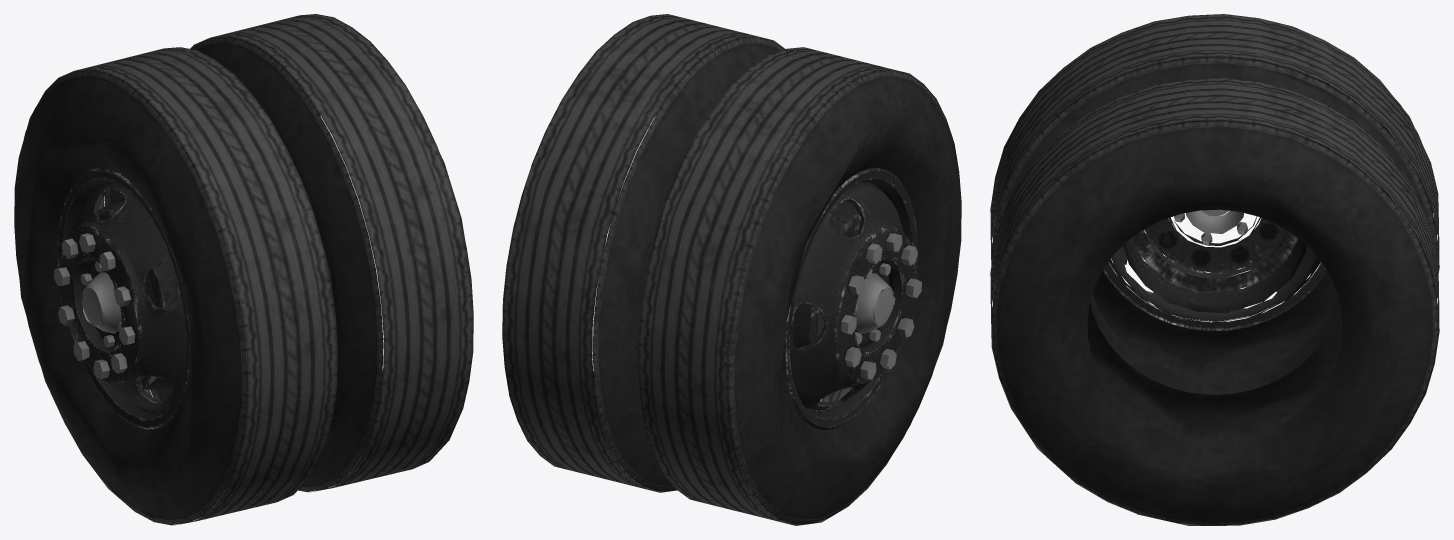
File: tm_wheel_a3_L.glb
3 views of the same model, side by side, from view 1: azimuth 30°, elevation 25°; view 2: azimuth 150°, elevation 25°; view 3: azimuth 270°, elevation 25° (orthographic). The views are drawn at different scales.
Visible parts, largest first — view 1: wheel_(3, 0); view 2: wheel_(3, 0); view 3: wheel_(3, 0).
Boxes of the visible parts, <box> form: wheel_(3, 0): <box>14,14,473,525</box>; wheel_(3, 0): <box>502,14,961,525</box>; wheel_(3, 0): <box>990,14,1439,525</box>.
Bounding box in the file's own units: 63.95 × 90.33 × 90.33.
1 material, 1 textured.
